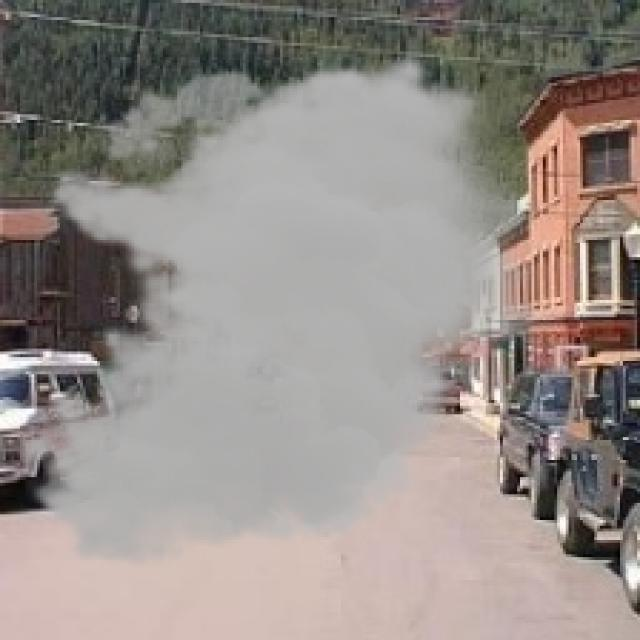Smoke: (14, 51, 554, 568)
